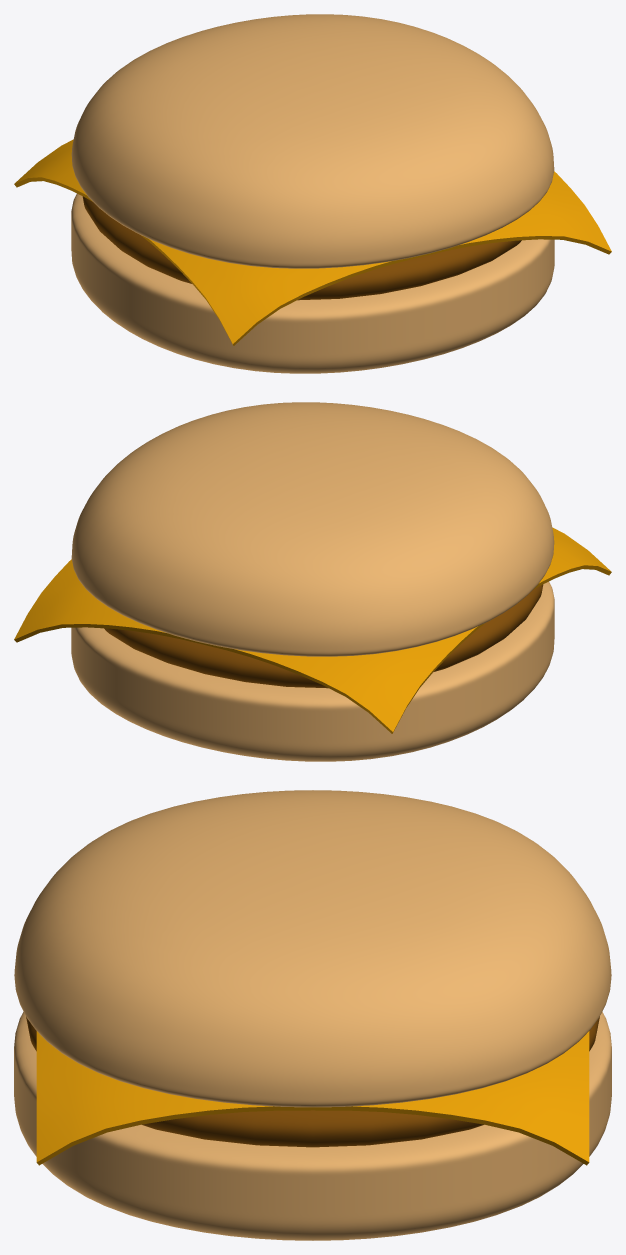
The model's file is hamburger.glb.
3 renders of one model, top to bottom at view 1: azimuth 30°, elevation 25°; view 2: azimuth 150°, elevation 25°; view 3: azimuth 270°, elevation 25°, orthographic. The views are drawn at different scales.
Parts seen in each view (by area): view 1: Cube.002, Cube, Plane, Cube.001; view 2: Cube.002, Cube, Plane, Cube.001; view 3: Cube.002, Cube, Plane, Cube.001.
Part boxes in pixels (<box>): Cube.002: <box>71,14,554,268</box>; Cube: <box>71,193,554,373</box>; Plane: <box>14,139,611,345</box>; Cube.001: <box>82,196,521,300</box>; Cube.002: <box>71,402,554,656</box>; Cube: <box>71,581,554,761</box>; Plane: <box>14,527,611,733</box>; Cube.001: <box>104,584,543,688</box>; Cube.002: <box>14,790,611,1107</box>; Cube: <box>14,1012,611,1240</box>; Plane: <box>36,1031,589,1165</box>; Cube.001: <box>26,1016,599,1147</box>.
Bounding box in the file's own units: 9.15 × 4.86 × 9.15.
